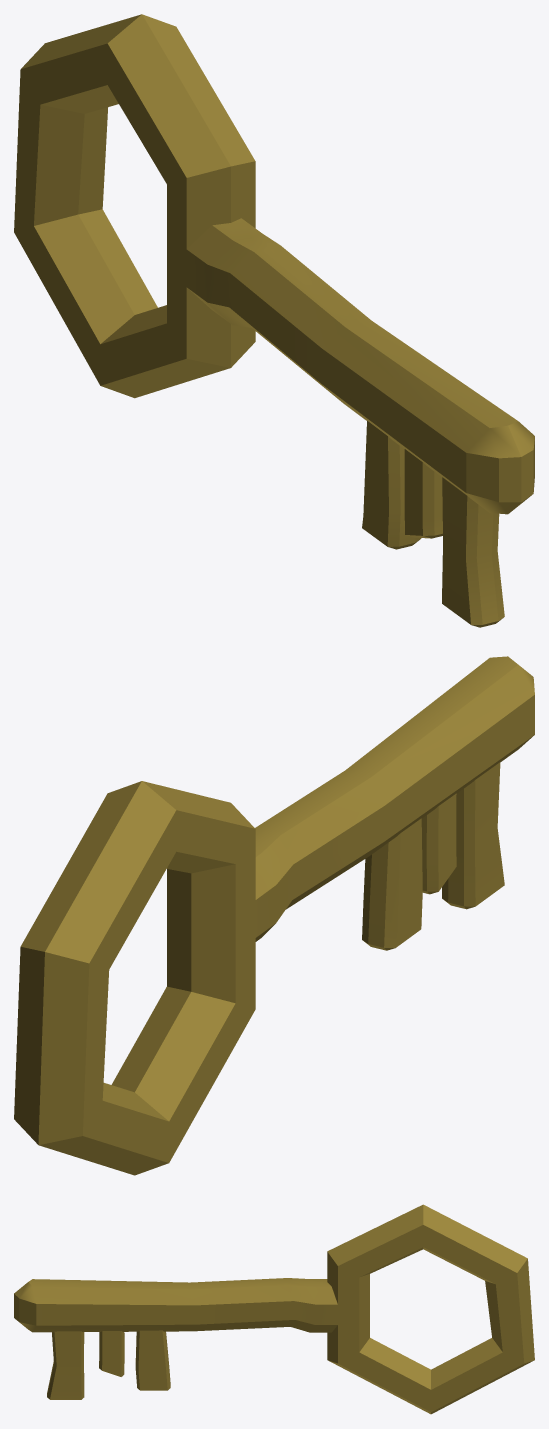
Rendered from key.fbx.
3 renders of one model, top to bottom at view 1: azimuth 30°, elevation 25°; view 2: azimuth 150°, elevation 25°; view 3: azimuth 270°, elevation 25°, orthographic. The views are drawn at different scales.
Visible parts, largest first — view 1: Key; view 2: Key; view 3: Key.
Part boxes in pixels (x1,y1,x2,y2): Key: (14,14,534,627); Key: (14,656,534,1175); Key: (14,1204,534,1414).
Size of the model in its own units: 0.019 by 0.1029 by 0.2312.
